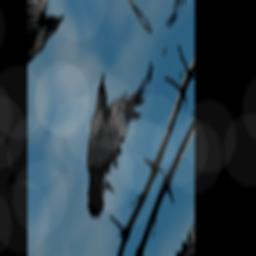Crow: (61, 16, 166, 229)
